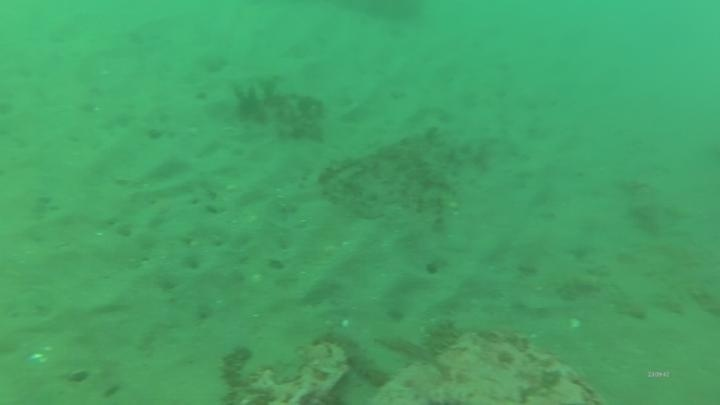holothurian: (315, 326, 394, 390), (418, 316, 463, 363), (217, 343, 255, 392)
